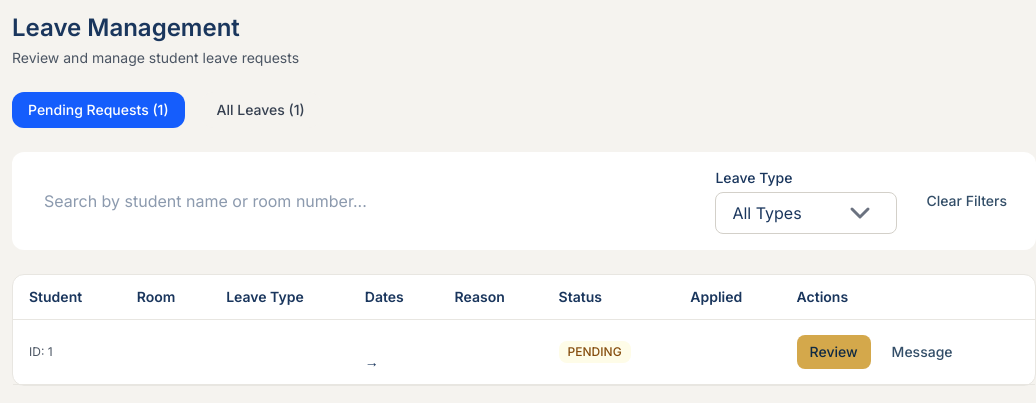
Test: Task 18.2 - Superintendent Leave Management › Filters › should show status filter only on all leaves tab
Step 1. Click the button "All Leaves (1)" → [261, 110], box [201, 92, 321, 128]
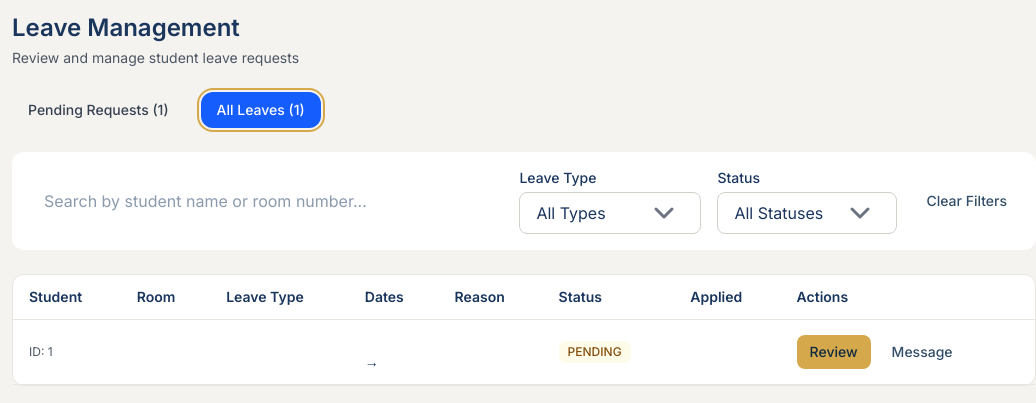
Now the dropdown labelled "Status" is shown, box [717, 192, 897, 234]
